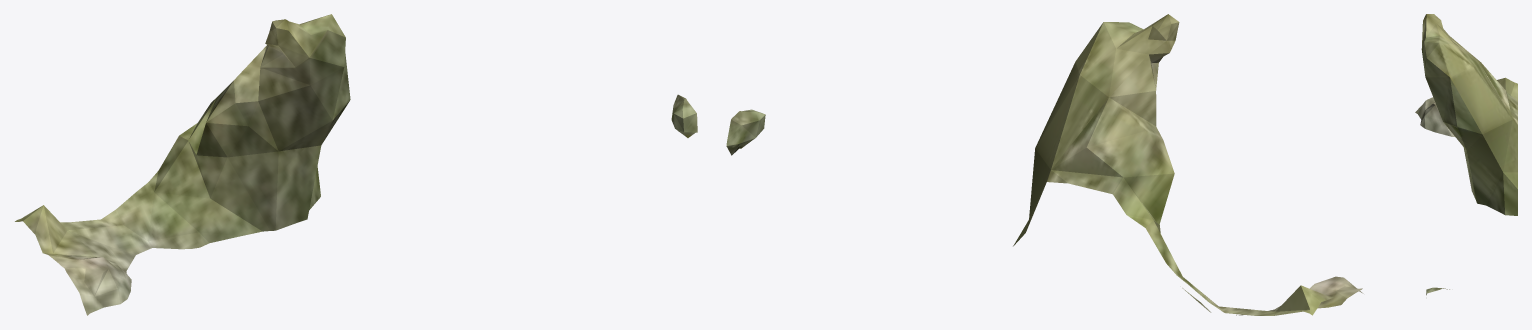
3 renders of one model, left to right at view 1: azimuth 30°, elevation 25°; view 2: azimuth 150°, elevation 25°; view 3: azimuth 270°, elevation 25°, orthographic. The views are drawn at different scales.
Size of the model in its own units: 5.9 by 2.19 by 1.2.
1 material, 1 textured.
